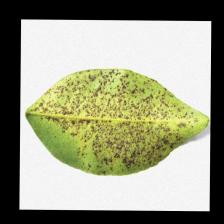canker: (77, 84, 173, 155)
